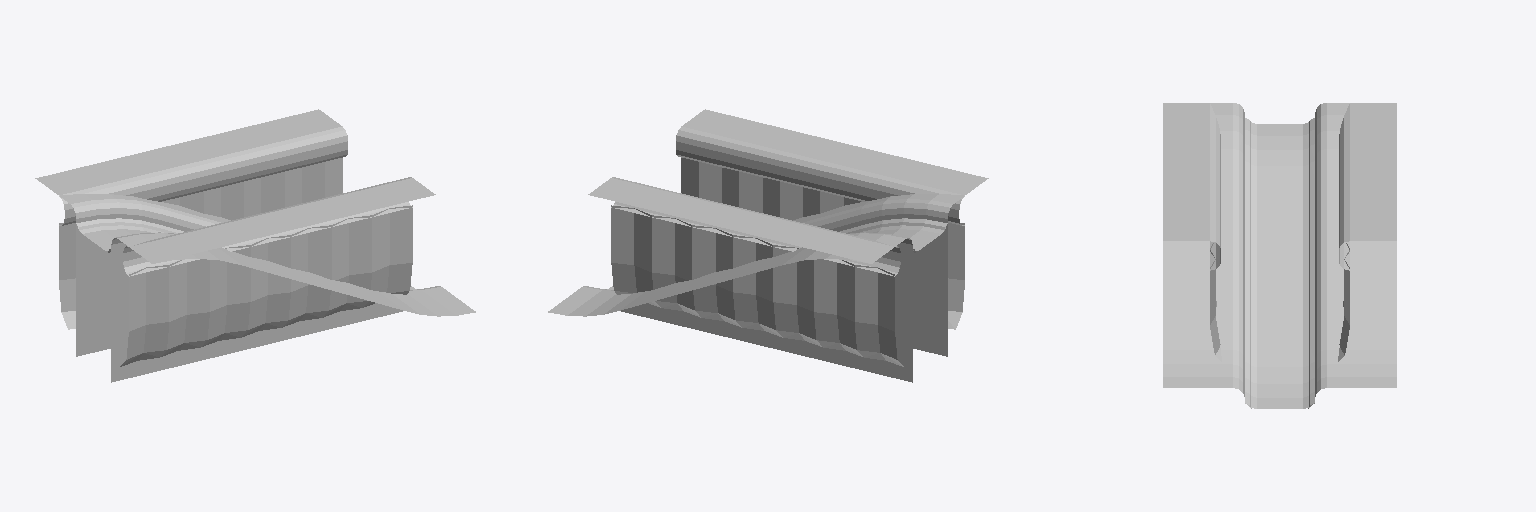
The model's file is Track_Cliff_Incline_Striped_3_Tall_Single.obj.
3 views of the same model, side by side, from view 1: azimuth 30°, elevation 25°; view 2: azimuth 150°, elevation 25°; view 3: azimuth 270°, elevation 25° (orthographic).
Parts seen in each view (by area): view 1: Grass, Rock, Dirt; view 2: Grass, Rock, Dirt; view 3: Grass, Dirt, Raceline_Color_1, Raceline_Color_2, Rock.
Part boxes in pixels (x1,y1,x2,y2): Grass: (35,109,475,382); Rock: (59,158,412,366); Dirt: (77,225,416,289); Grass: (548,109,988,382); Rock: (611,158,964,366); Dirt: (607,225,946,289); Grass: (1163,103,1396,396); Dirt: (1245,122,1314,408); Raceline_Color_1: (1245,130,1314,408); Raceline_Color_2: (1245,118,1314,394); Rock: (1210,243,1349,361).
Size of the model in its own units: 8 by 3.5 by 5.